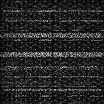lte: (1, 33, 104, 38), (1, 52, 104, 57), (1, 88, 104, 91), (1, 66, 104, 69), (1, 9, 104, 12), (1, 19, 104, 22)
